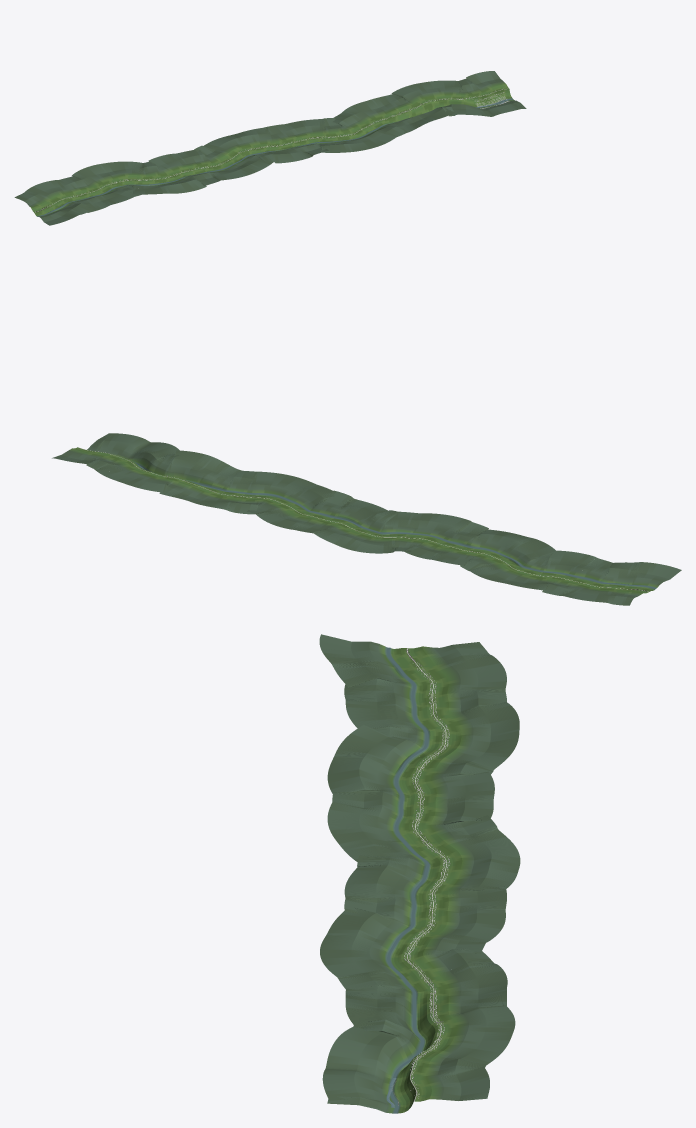
The model's file is redoute.glb.
3 views of the same model, one above another, from view 1: azimuth 30°, elevation 25°; view 2: azimuth 150°, elevation 25°; view 3: azimuth 270°, elevation 25° (orthographic). The views are drawn at different scales.
Visible parts, largest first — view 1: Land_013, Land_012, Land_016, Land_014, Land_011, Land_000, Land_002, Land_015, Land_003, Land_004, Land_010, Land_005 (+5 smaller); view 2: Land_013, Land_000, Land_004, Land_011, Land_006, Land_002, Land_007, Land_009, Land_010, Land_008, Land_015, Land_005 (+5 smaller); view 3: Land_015, Land_004, Land_006, Land_000, Land_016, Land_011, Land_009, Land_010, Land_005, Land_008, Land_001, Land_002 (+5 smaller).
Boxes of the visible parts, box(x1,y1,x2,y2) form: Land_013: box(374, 93, 452, 129); Land_012: box(340, 98, 414, 136); Land_016: box(466, 71, 526, 113); Land_014: box(392, 80, 454, 116); Land_011: box(332, 114, 398, 151); Land_000: box(14, 190, 92, 225); Land_002: box(63, 167, 137, 206); Land_015: box(449, 78, 501, 116); Land_003: box(87, 161, 142, 196); Land_004: box(134, 161, 199, 194); Land_010: box(293, 118, 353, 152); Land_005: box(149, 152, 219, 189); Land_013: box(160, 450, 230, 499); Land_000: box(606, 562, 681, 605); Land_004: box(460, 530, 554, 571); Land_011: box(232, 471, 314, 514); Land_006: box(401, 513, 471, 557); Land_002: box(520, 550, 596, 594); Land_007: box(345, 511, 417, 553); Land_009: box(281, 491, 368, 533); Land_010: box(248, 484, 335, 527); Land_008: box(313, 503, 395, 547); Land_015: box(86, 437, 179, 473); Land_005: box(420, 522, 496, 566); Land_015: box(323, 1026, 495, 1087); Land_004: box(327, 728, 493, 788); Land_006: box(327, 802, 493, 847); Land_000: box(319, 634, 492, 685); Land_016: box(322, 1066, 489, 1113); Land_011: box(320, 936, 493, 980); Land_009: box(344, 885, 506, 924); Land_010: box(326, 909, 505, 950); Land_005: box(330, 772, 494, 814); Land_008: box(345, 857, 519, 894); Land_001: box(344, 656, 506, 705); Land_002: box(345, 695, 518, 732).
Bounding box in the file's own units: 19628 × 3083 × 4916.
